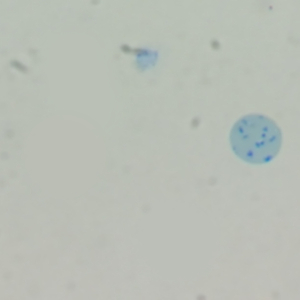aggregate reticulocyte: (227, 112, 284, 165)
